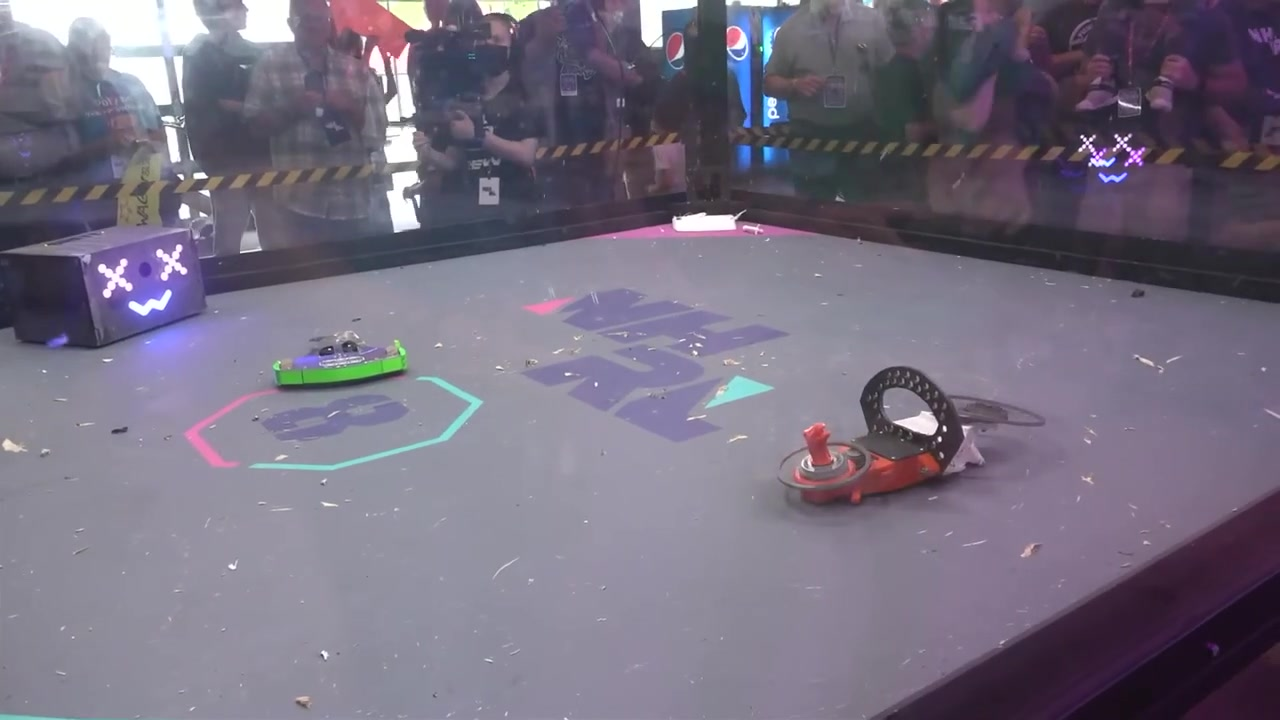combatbot: (777, 365, 1045, 513), (271, 337, 410, 386)
housebot: (2, 224, 207, 349)
minibot: (671, 208, 749, 232)
